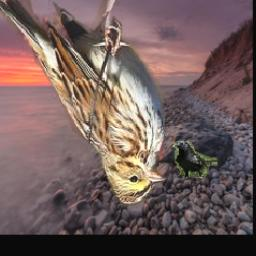Crow: (172, 141, 217, 179)
Sparrow: (0, 0, 166, 207)
